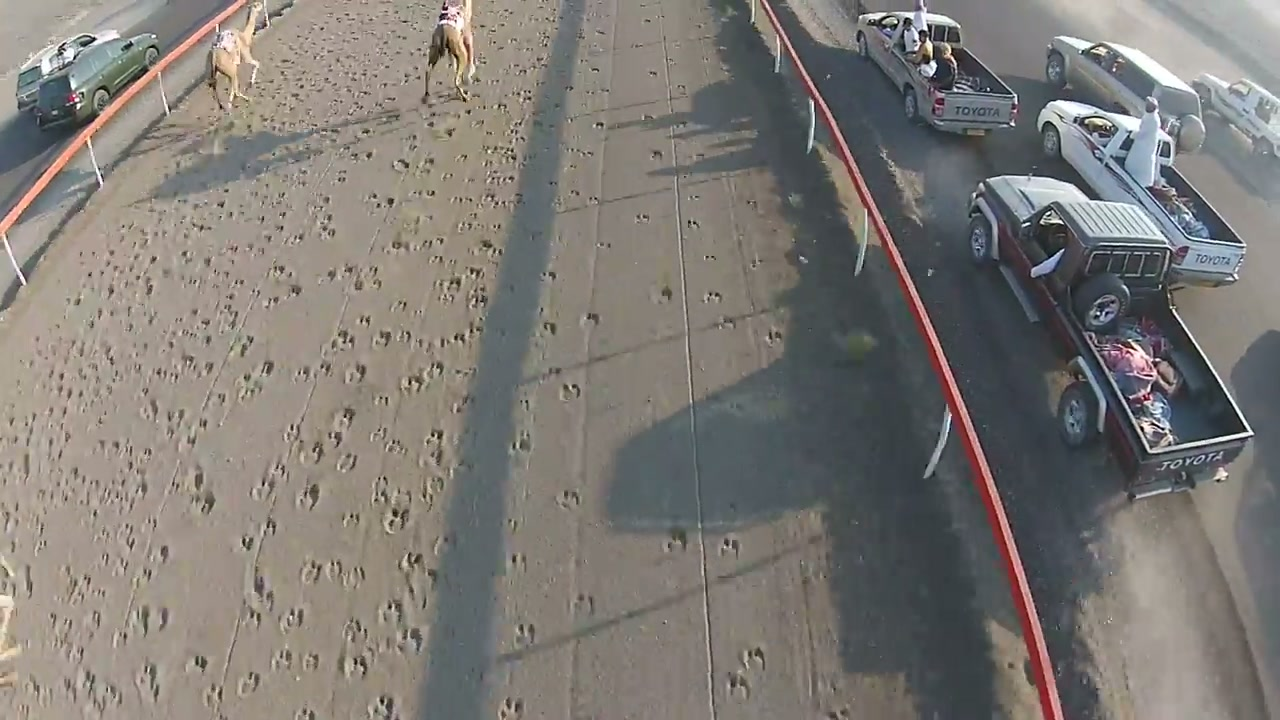animal_foot_print: (17, 6, 537, 689)
